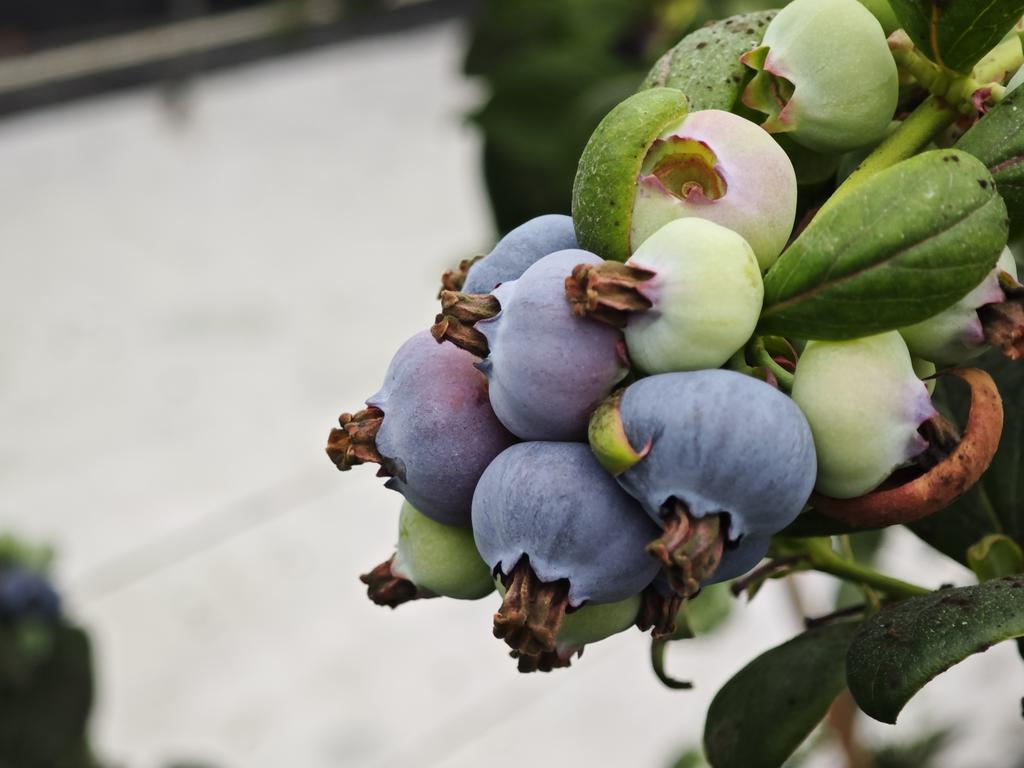RipeBlueBerry: (608, 368, 820, 554), (470, 438, 662, 613), (470, 244, 628, 437)
Semi-RipeBlueBerry: (362, 325, 492, 524)
UnripeBlueBerry: (610, 213, 768, 372)
